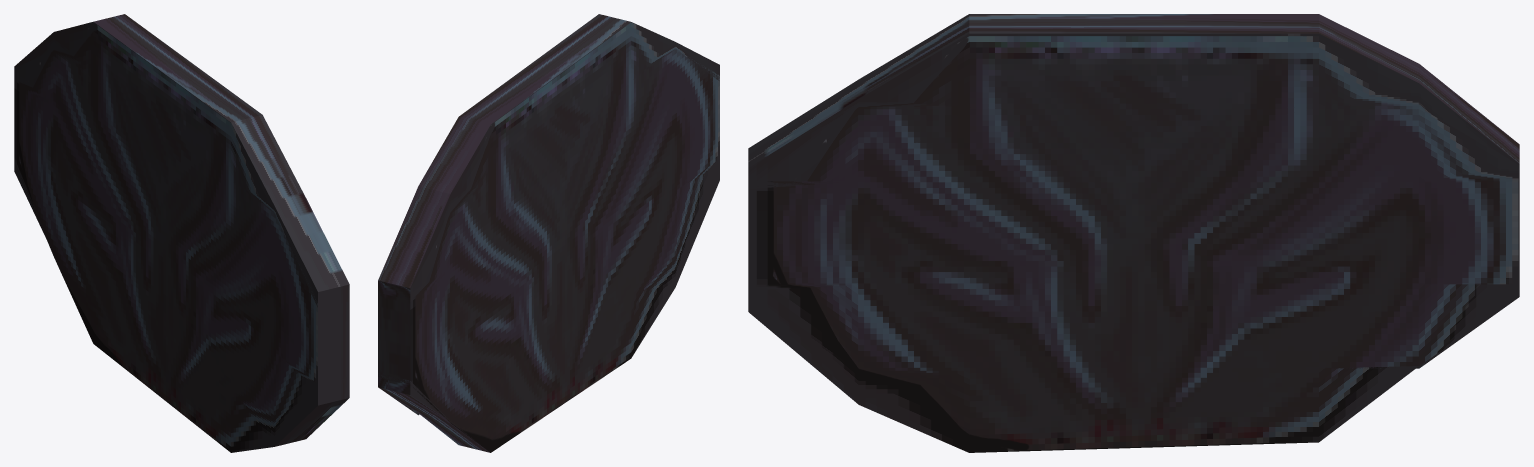
The model's file is CultPlate.obj.
3 renders of one model, left to right at view 1: azimuth 30°, elevation 25°; view 2: azimuth 150°, elevation 25°; view 3: azimuth 270°, elevation 25°, orthographic. The views are drawn at different scales.
Visible parts, largest first — view 1: Cube; view 2: Cube; view 3: Cube.
Boxes of the visible parts, box(x1,y1,x2,y2) form: Cube: box(14, 14, 349, 452); Cube: box(378, 14, 719, 452); Cube: box(748, 14, 1519, 452).
Bounding box in the file's own units: 0.03 × 0.3 × 0.5.
Materials: 1 (1 with a texture image).
